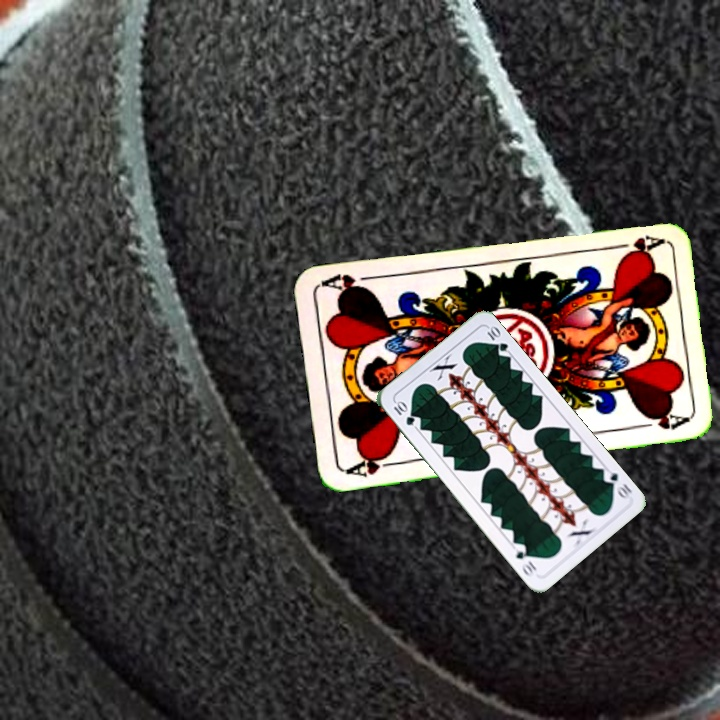G10: (598, 468, 635, 501), (389, 397, 417, 428)
HA: (342, 449, 401, 480), (605, 231, 664, 258)
